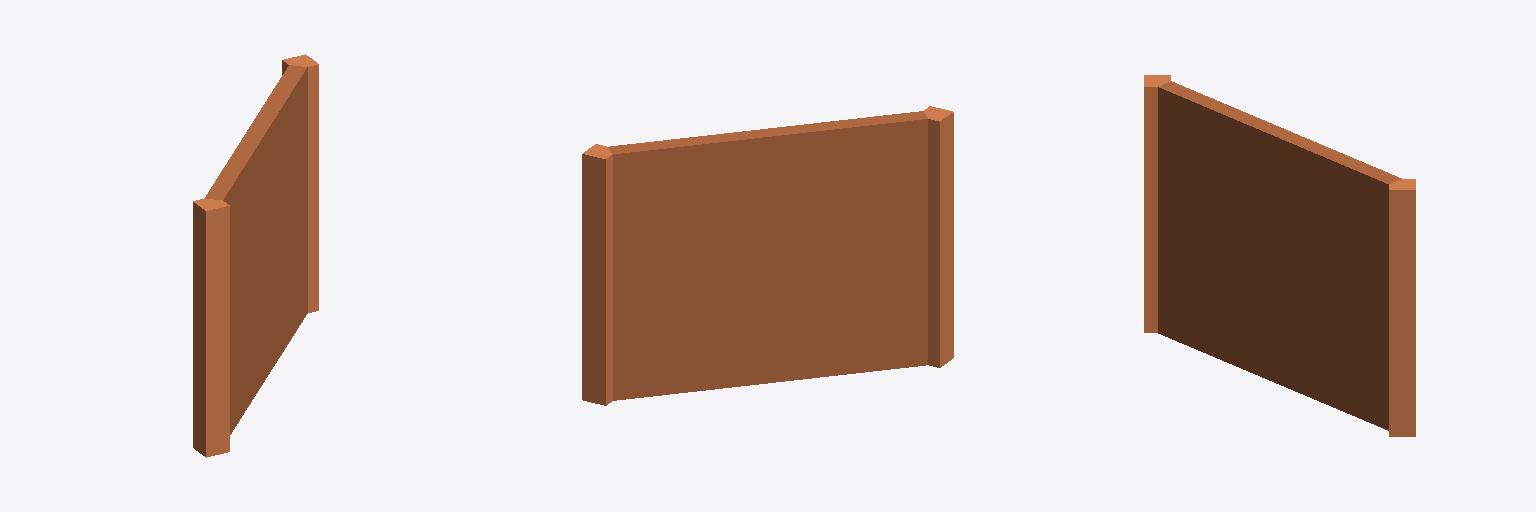
File: wallWoodDiagonal.obj
3 views of the same model, side by side, from view 1: azimuth 30°, elevation 25°; view 2: azimuth 150°, elevation 25°; view 3: azimuth 270°, elevation 25° (orthographic).
Parts seen in each view (by area): view 1: wallWoodDiagonal; view 2: wallWoodDiagonal; view 3: wallWoodDiagonal.
Boxes of the visible parts, x1=… form: wallWoodDiagonal: x1=193, y1=54, x2=318, y2=457; wallWoodDiagonal: x1=582, y1=106, x2=953, y2=405; wallWoodDiagonal: x1=1144, y1=75, x2=1415, y2=436.
Bounding box in the file's own units: 1 × 1 × 1.